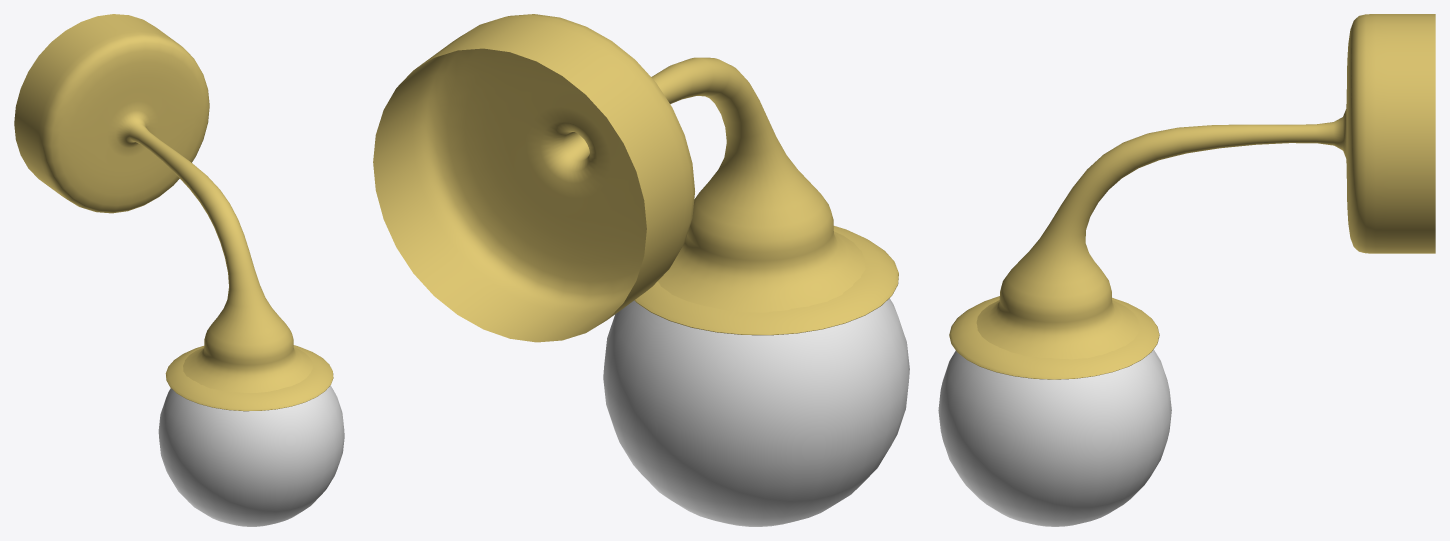
File: Decorative lights.fbx
The picture shows the model from 3 angles, left to right: view 1: azimuth 30°, elevation 25°; view 2: azimuth 150°, elevation 25°; view 3: azimuth 270°, elevation 25°; orthographic projection. The views are drawn at different scales.
Parts seen in each view (by area): view 1: Cylinder, Sphere; view 2: Cylinder, Sphere; view 3: Cylinder, Sphere.
Part boxes in pixels (x1,y1,x2,y2): Cylinder: (14,14,333,411); Sphere: (158,385,344,526); Cylinder: (373,14,898,342); Sphere: (603,298,909,526); Cylinder: (949,14,1435,379); Sphere: (938,349,1171,526).
Size of the model in its own units: 0.2707 by 0.609 by 0.5602.
